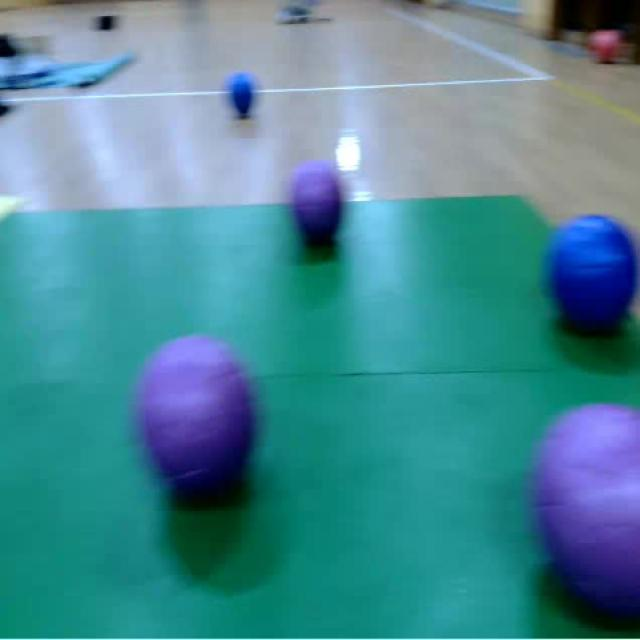blue_ball: (547, 217, 640, 333), (229, 75, 255, 115)
purple_ball: (538, 407, 640, 609), (141, 336, 255, 498), (289, 167, 344, 242)
